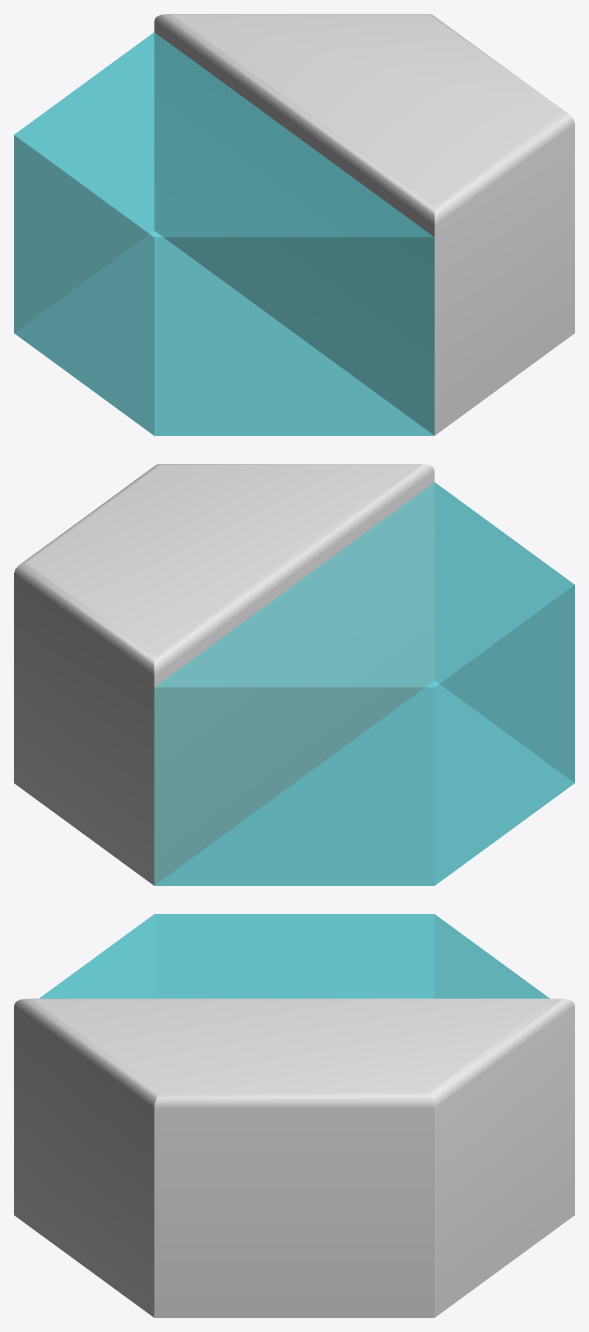
File: hex_snow_waterB.fbx
3 renders of one model, top to bottom at view 1: azimuth 30°, elevation 25°; view 2: azimuth 150°, elevation 25°; view 3: azimuth 270°, elevation 25°, orthographic.
Parts seen in each view (by area): view 1: hex_snow_waterB; view 2: hex_snow_waterB; view 3: hex_snow_waterB.
Part boxes in pixels (box(x1,y1,x2,y2)): hex_snow_waterB: box(14, 14, 574, 435); hex_snow_waterB: box(14, 464, 574, 885); hex_snow_waterB: box(14, 914, 574, 1317).
Size of the model in its own units: 2 by 1 by 2.31.
